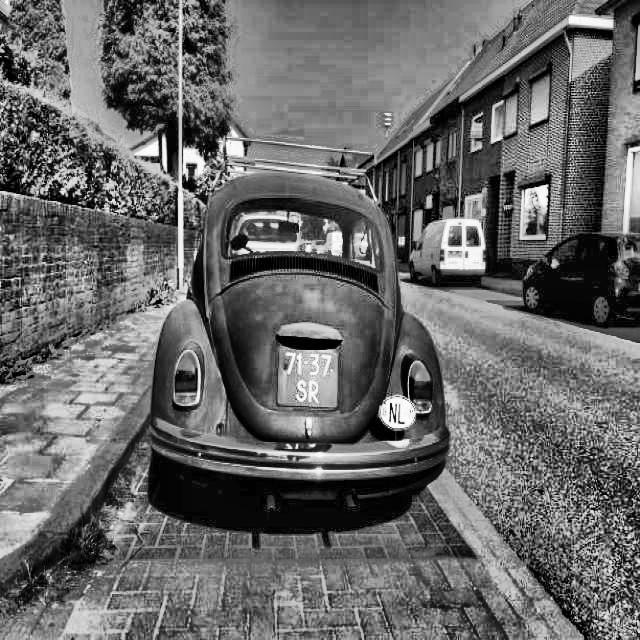carro: (162, 159, 452, 506), (515, 228, 640, 326), (414, 216, 482, 286)
